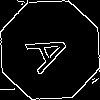A: (25, 25, 82, 76)
